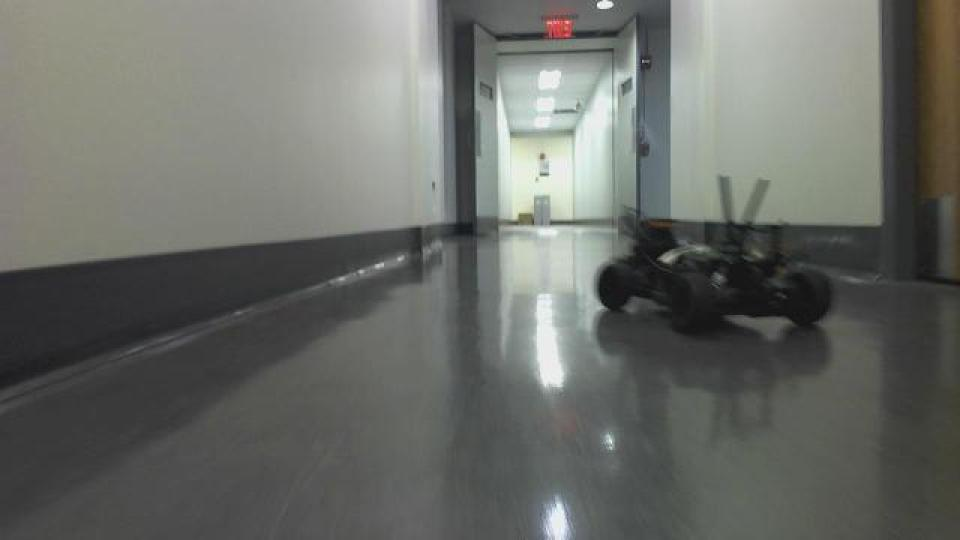car: (591, 172, 834, 338)
